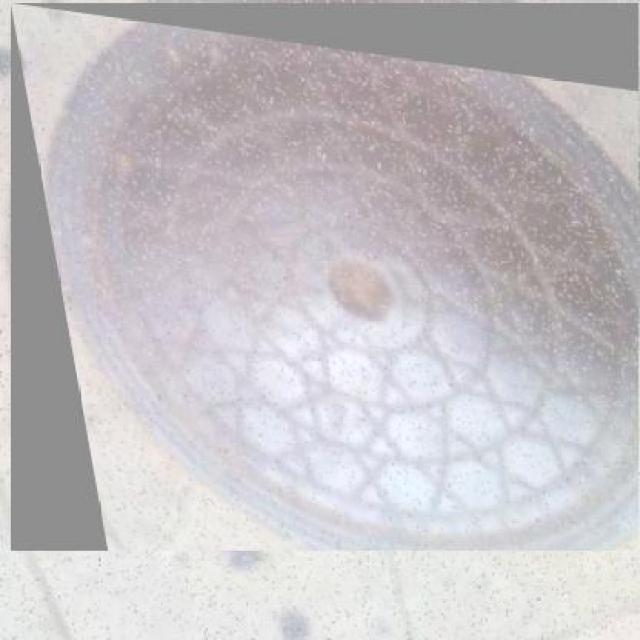Manhole: (11, 3, 638, 551)
